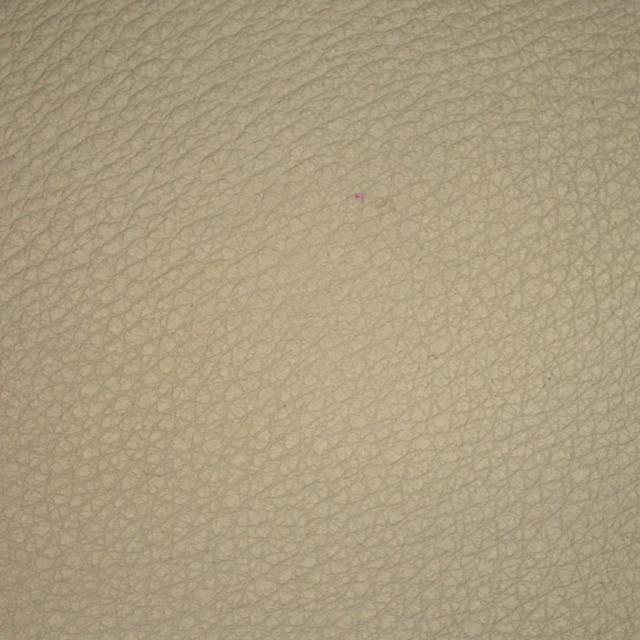Hole: (267, 96, 408, 242)
